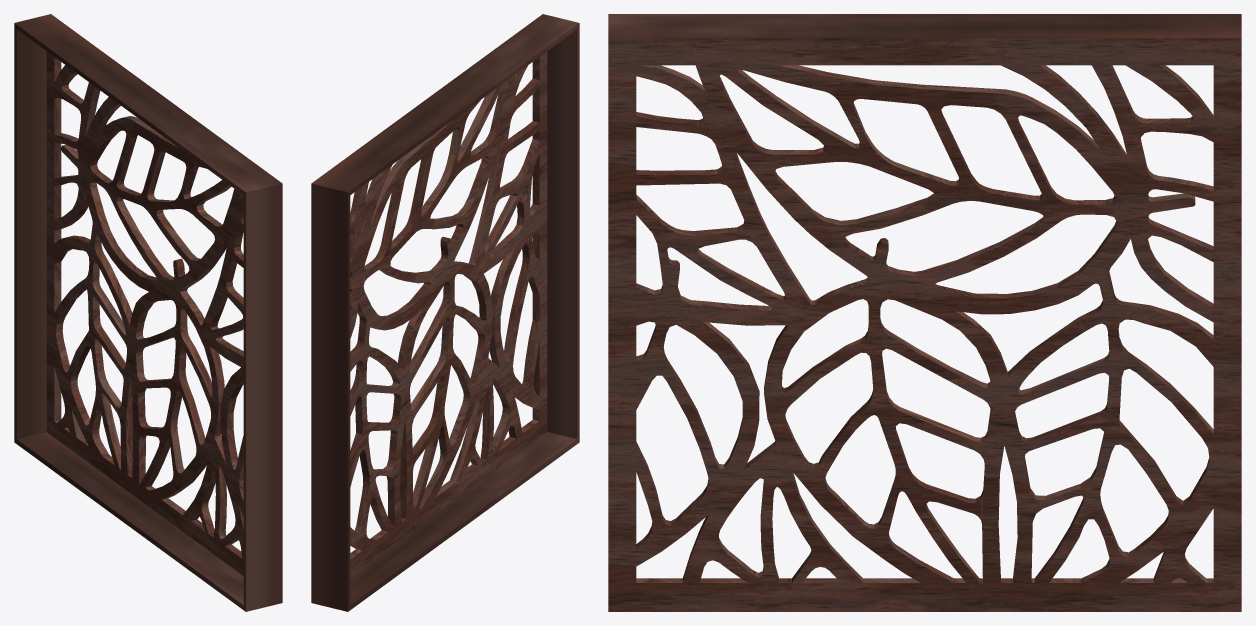
The picture shows the model from 3 angles, left to right: view 1: azimuth 30°, elevation 25°; view 2: azimuth 150°, elevation 25°; view 3: azimuth 270°, elevation 25°; orthographic projection. The views are drawn at different scales.
Visible parts, largest first — view 1: SAO-03_Wall Frame; view 2: SAO-03_Wall Frame; view 3: SAO-03_Wall Frame.
Boxes of the visible parts, left/top/right/bottom form: SAO-03_Wall Frame: left=14, top=14, right=282, bottom=611; SAO-03_Wall Frame: left=311, top=14, right=579, bottom=611; SAO-03_Wall Frame: left=608, top=14, right=1241, bottom=611.
Bounding box in the file's own units: 3.56 × 38.9 × 38.91.
Materials: 2 (2 with a texture image).
